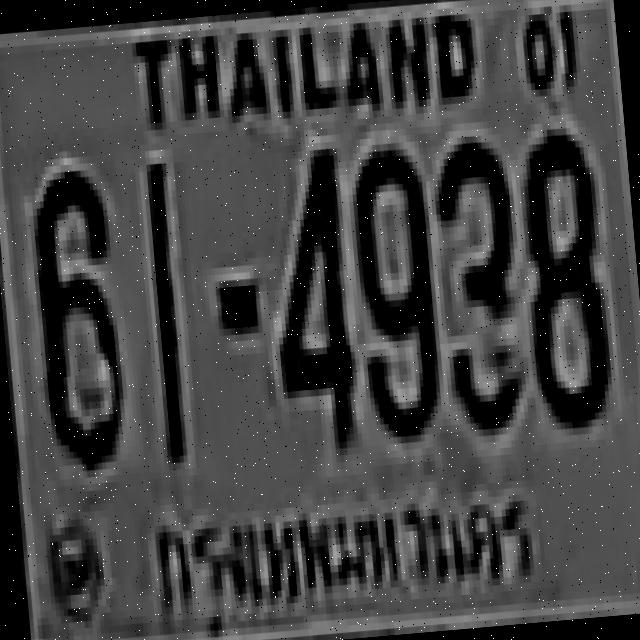1: (137, 153, 187, 460), (140, 160, 190, 460)
3: (430, 133, 525, 431)
4: (258, 142, 358, 446)
6: (24, 162, 124, 467)
8: (511, 123, 610, 421)
9: (344, 141, 439, 432)
Bangkok: (135, 453, 559, 640)
